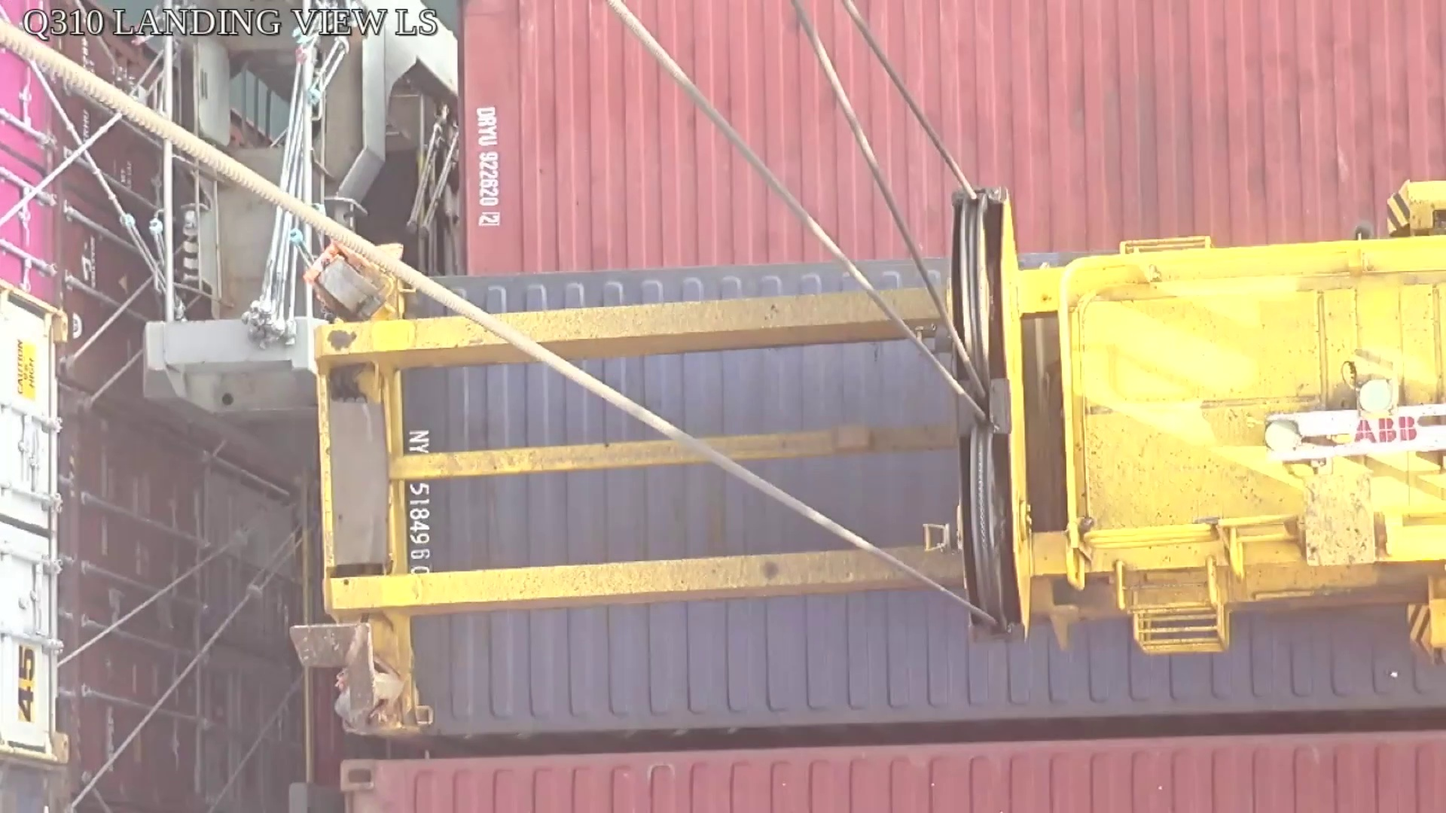aa: (949, 192, 1035, 642)
